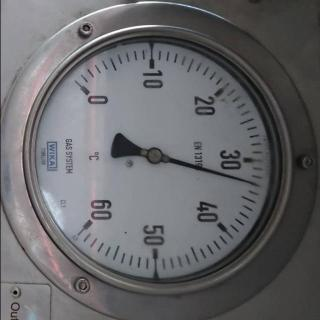gauge: (1, 4, 319, 318), (69, 77, 111, 113), (74, 205, 106, 238), (145, 146, 163, 166), (247, 177, 263, 191)
